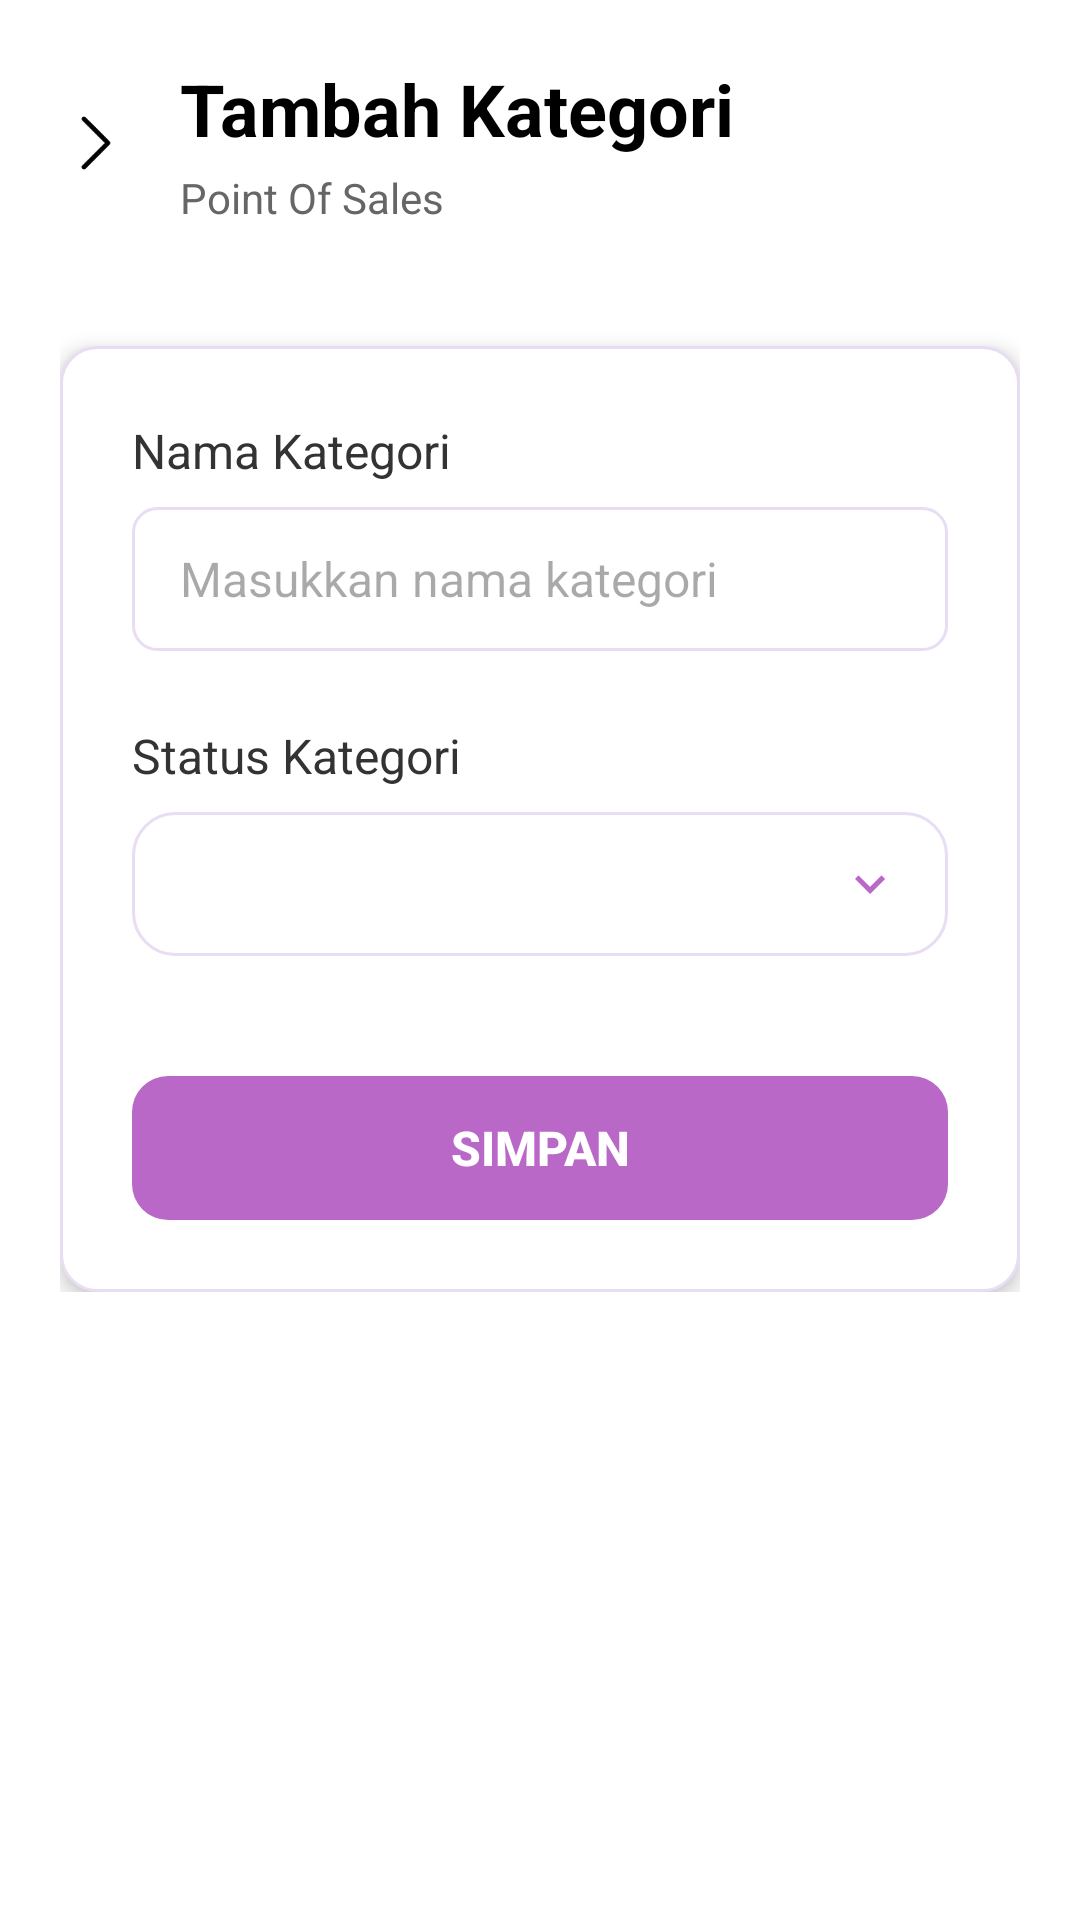

Icon click points for this 1080w x 1920h phone screenshot, format [x,y]:
arrow: [96,143]
